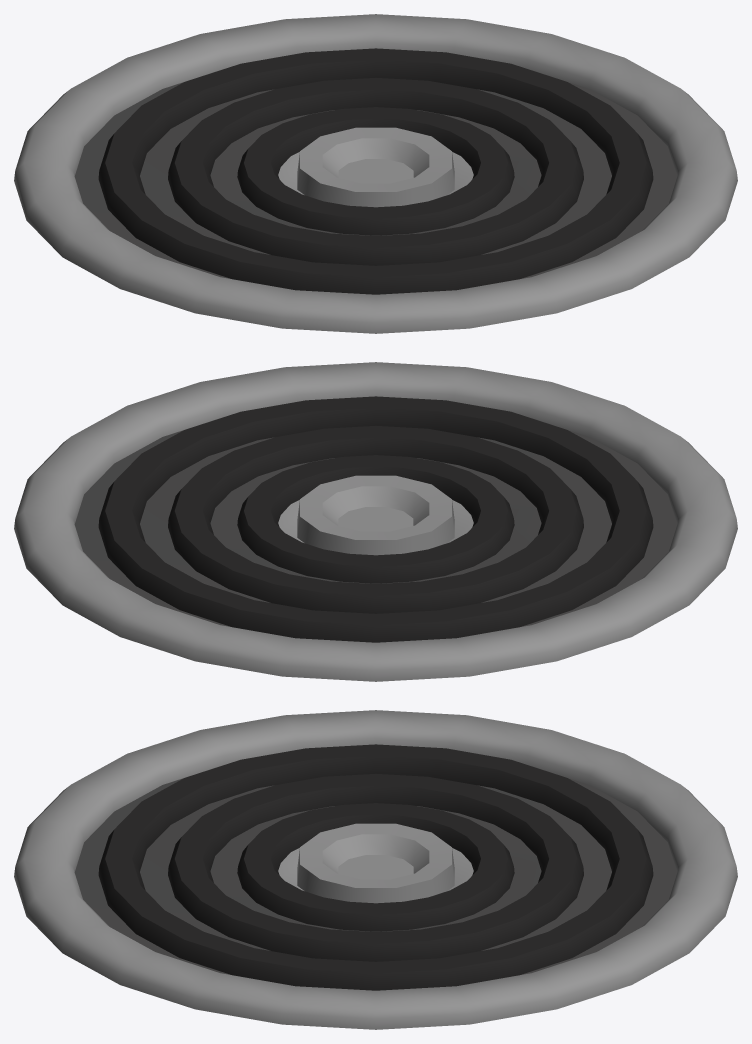
The model's file is Counter_Top_Burner_02.fbx.
3 views of the same model, one above another, from view 1: azimuth 30°, elevation 25°; view 2: azimuth 150°, elevation 25°; view 3: azimuth 270°, elevation 25° (orthographic).
Visible parts, largest first — view 1: Counter_Top_Burner_02; view 2: Counter_Top_Burner_02; view 3: Counter_Top_Burner_02.
Boxes of the visible parts, x1,y1,x2,y2 form: Counter_Top_Burner_02: (14, 14, 737, 333); Counter_Top_Burner_02: (14, 362, 737, 681); Counter_Top_Burner_02: (14, 710, 737, 1029).
Size of the model in its own units: 65.57 by 2.1 by 65.57.
